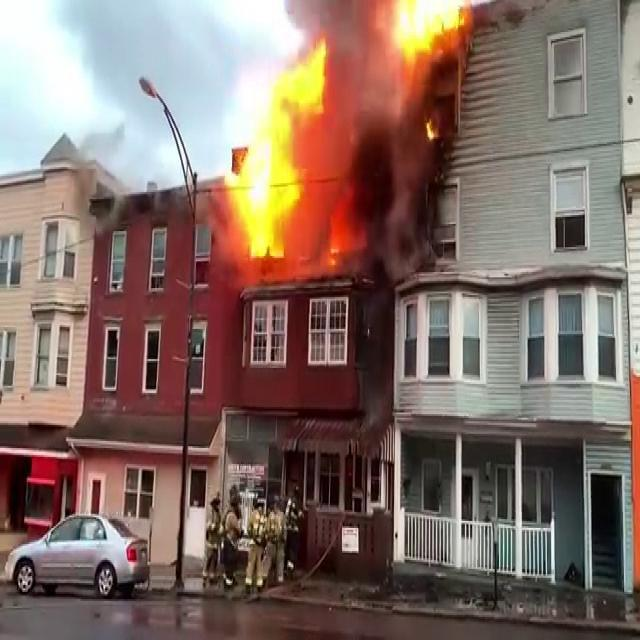Fire: (225, 25, 334, 265), (383, 0, 471, 66)
Smoke: (306, 4, 451, 272)
